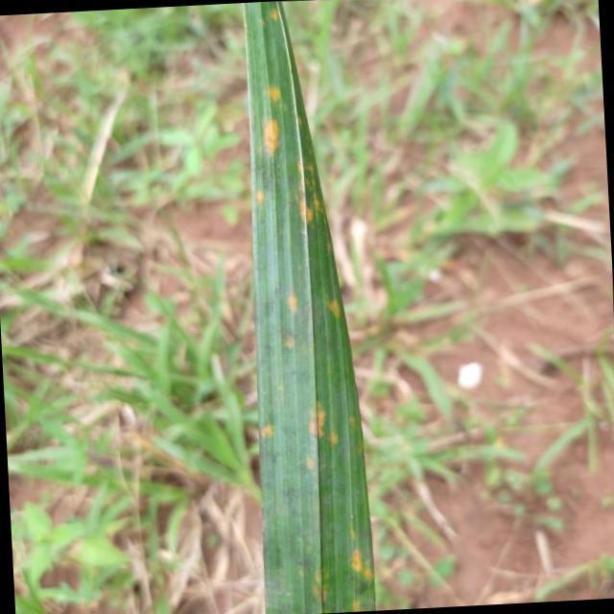Kalium: (240, 5, 372, 614)
